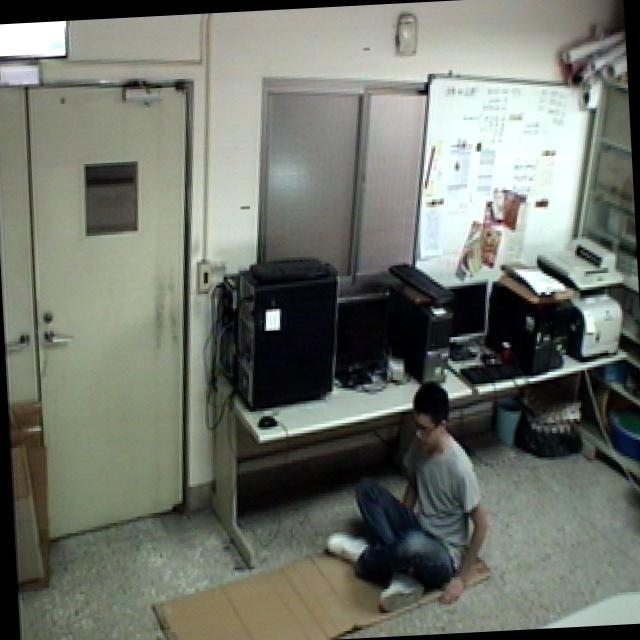sit: (312, 365, 496, 622)
